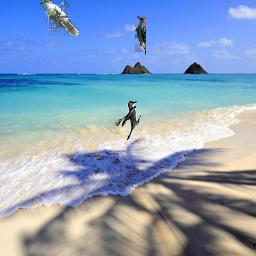Cuckoo: (39, 0, 79, 36)
Woodpecker: (115, 101, 141, 141), (135, 15, 146, 55)
